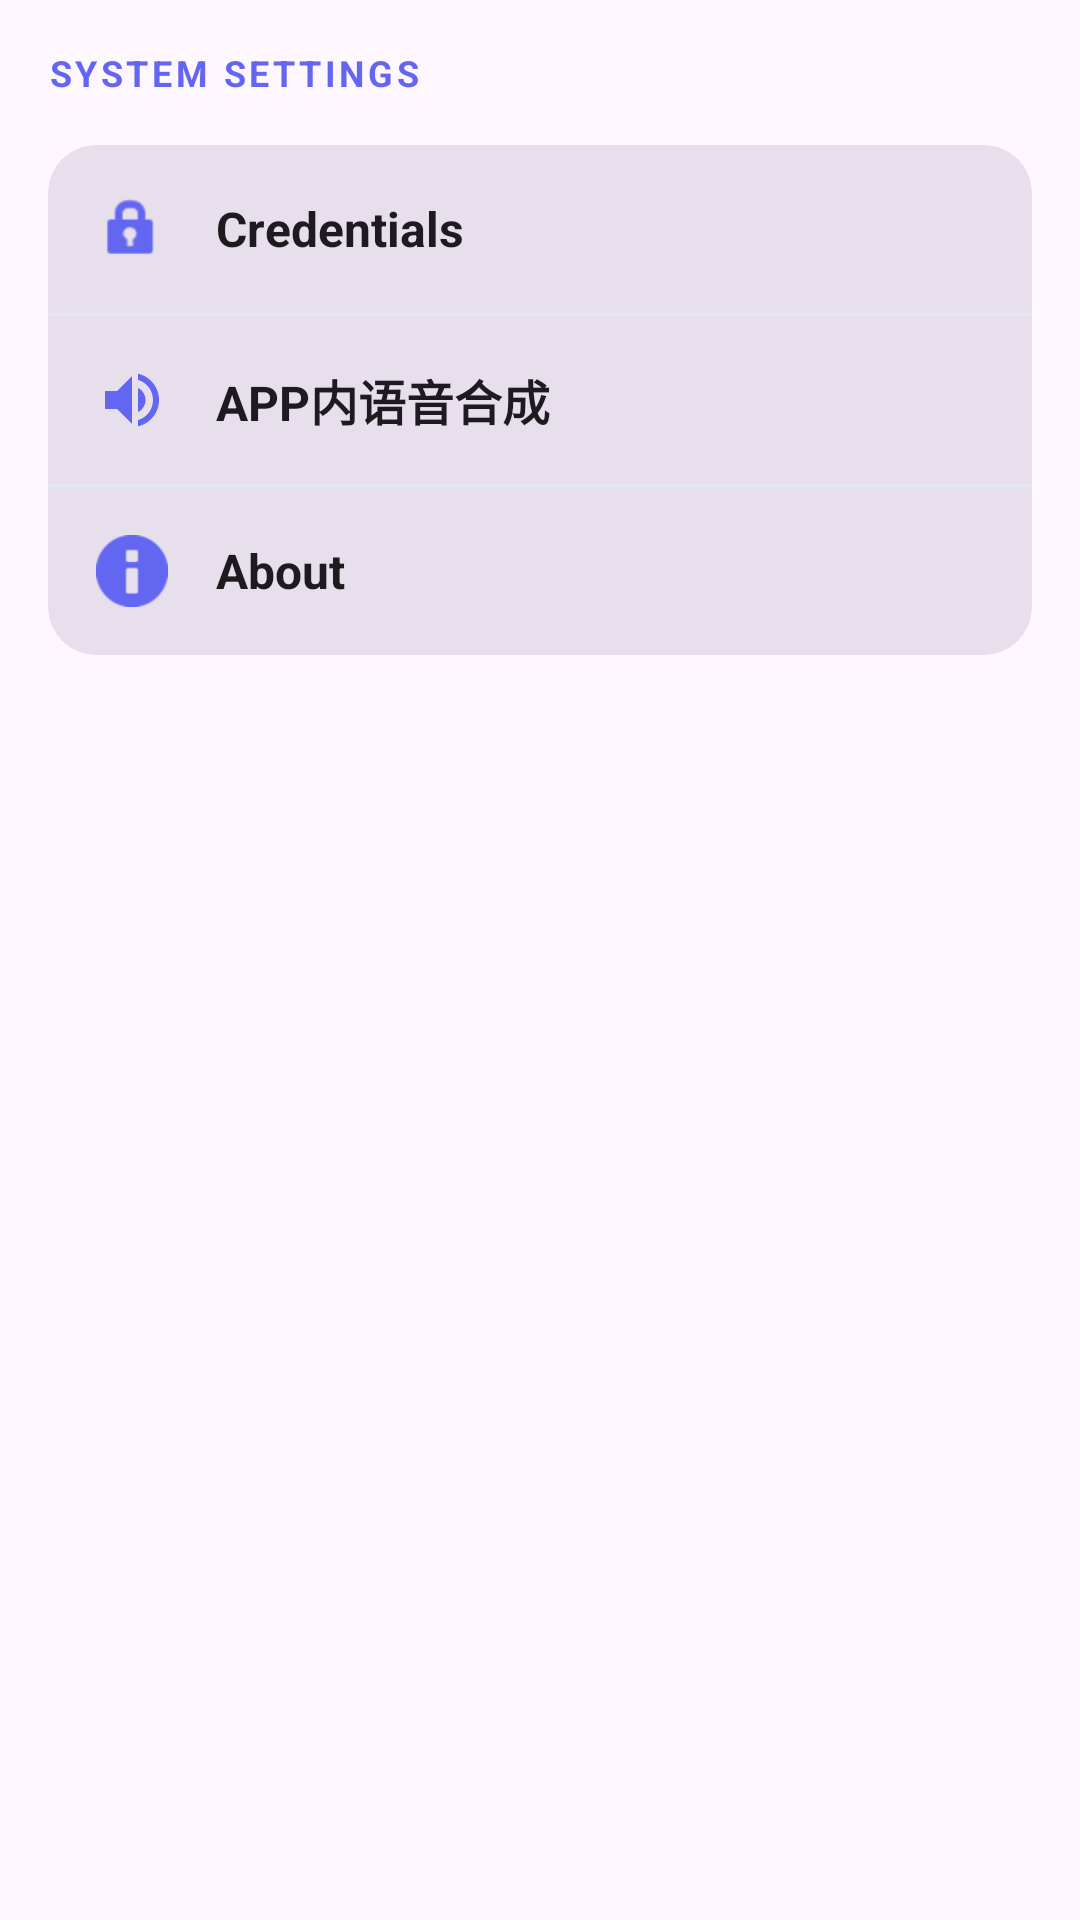

Screen size 1080px x 1920px. Icon name, then its center in pixels as (x,y):
In-App Speech Synthesis Icon: (132,400)
